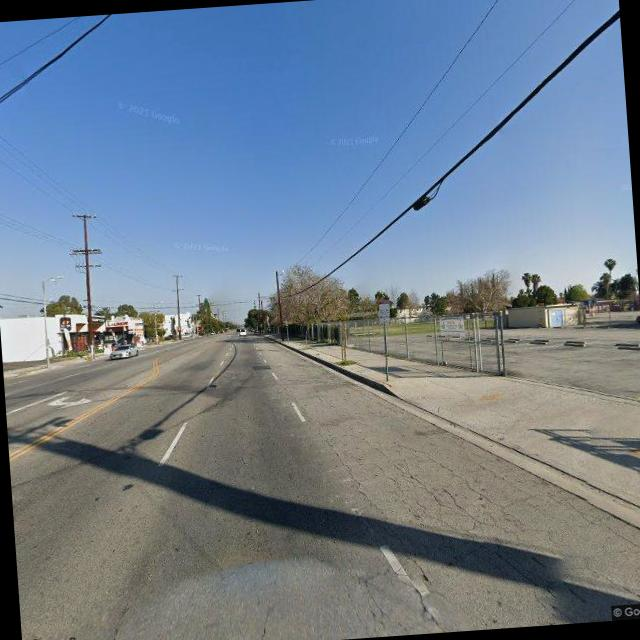crack: (320, 388, 615, 628)
